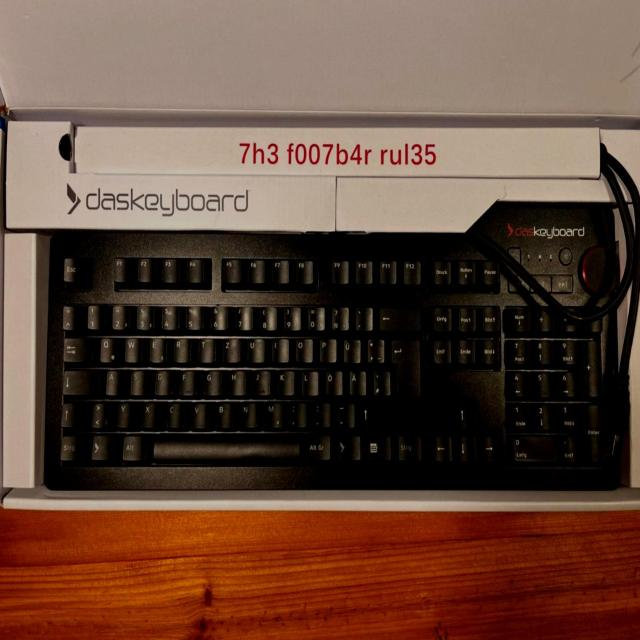0: (305, 303, 325, 330)
1: (85, 301, 104, 328)
2: (110, 302, 128, 329)
3: (135, 302, 154, 329)
4: (160, 303, 179, 329)
5: (183, 303, 203, 329)
6: (208, 302, 228, 329)
7: (233, 303, 252, 330)
8: (257, 303, 276, 330)
9: (281, 303, 301, 330)
a: (104, 366, 122, 394)
accent: (353, 305, 372, 330)
ae: (347, 367, 366, 395)
alt-left: (120, 432, 146, 460)
altgr-right: (304, 431, 330, 459)
b: (213, 399, 233, 427)
c: (165, 399, 184, 426)
caret: (61, 304, 78, 329)
comma: (287, 399, 306, 427)
d: (153, 367, 172, 395)
del: (377, 303, 421, 330)
e: (148, 334, 166, 361)
enter: (388, 336, 420, 396)
f: (178, 367, 197, 395)
g: (202, 367, 220, 395)
h: (226, 366, 246, 394)
hash: (371, 368, 390, 395)
i: (269, 335, 289, 361)
j: (251, 366, 270, 394)
k: (275, 366, 294, 394)
keyboard: (46, 232, 619, 488)
l: (299, 367, 318, 395)
less: (90, 398, 109, 427)
m: (262, 399, 282, 427)
minus: (335, 400, 354, 427)
n: (238, 399, 257, 427)
o: (293, 335, 313, 362)
oe: (323, 367, 342, 395)
p: (317, 335, 336, 361)
plus: (365, 336, 384, 362)
point: (311, 399, 330, 426)
q: (98, 333, 116, 361)
r: (172, 334, 190, 361)
s: (129, 367, 147, 394)
shift-left: (59, 400, 84, 426)
shift-lock: (61, 367, 99, 395)
shift-right: (359, 399, 420, 426)
space: (151, 431, 300, 461)
ss: (329, 304, 349, 330)
strg-left: (59, 433, 85, 460)
strg-right: (395, 433, 421, 460)
t: (196, 335, 215, 362)
tab: (62, 335, 93, 362)
u: (245, 335, 264, 362)
ue: (341, 336, 360, 362)
v: (189, 399, 208, 427)
w: (123, 334, 141, 361)
x: (140, 399, 159, 427)
y: (115, 399, 134, 427)
z: (221, 335, 240, 362)
